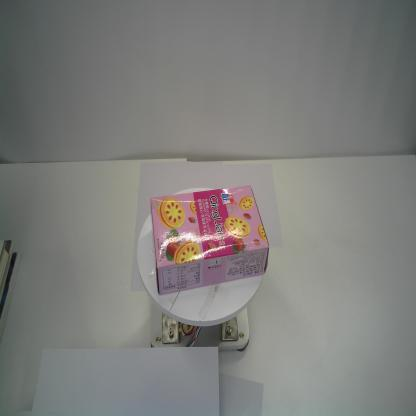Dessert: (150, 184, 270, 296)
